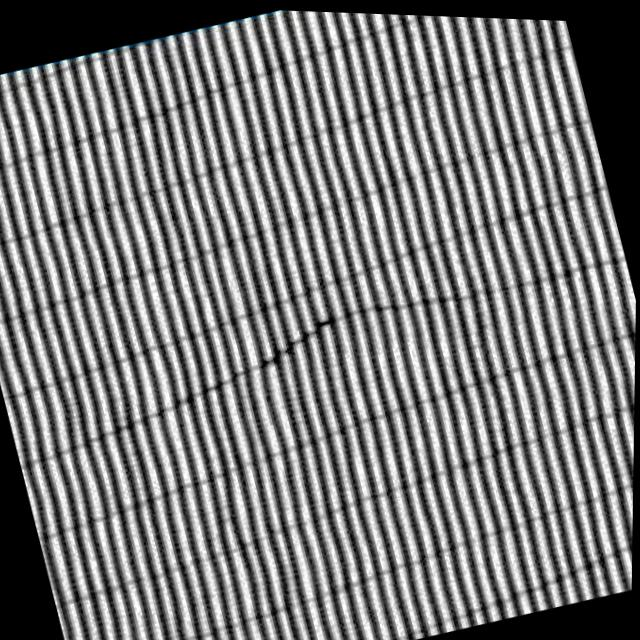Stitch: (187, 262, 437, 415)
